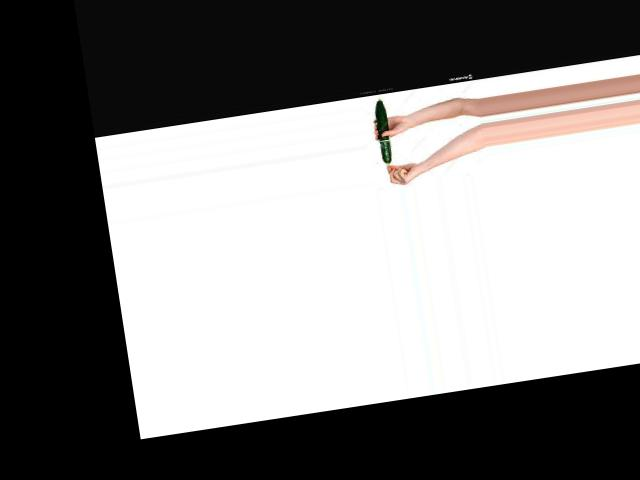cucumber: (372, 97, 392, 164)
